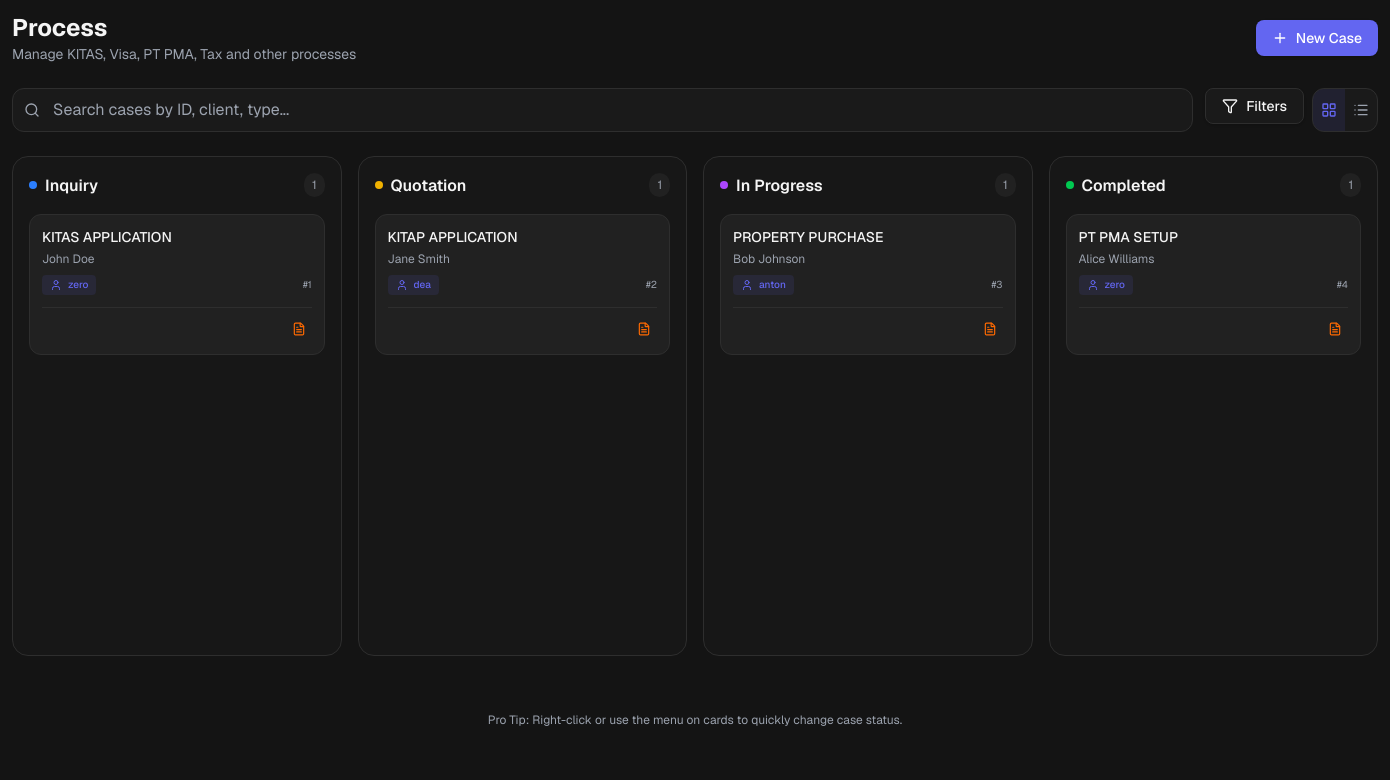
Cases Page › Search Functionality › should filter cases by client name
Expected: the text "John Doe" is shown, x1=42 y1=251 x2=94 y2=267
Type "John" into the field with placeholder "Search cases by ID, client, type..." at coordinates (603, 110), box x1=12 y1=88 x2=1193 y2=132
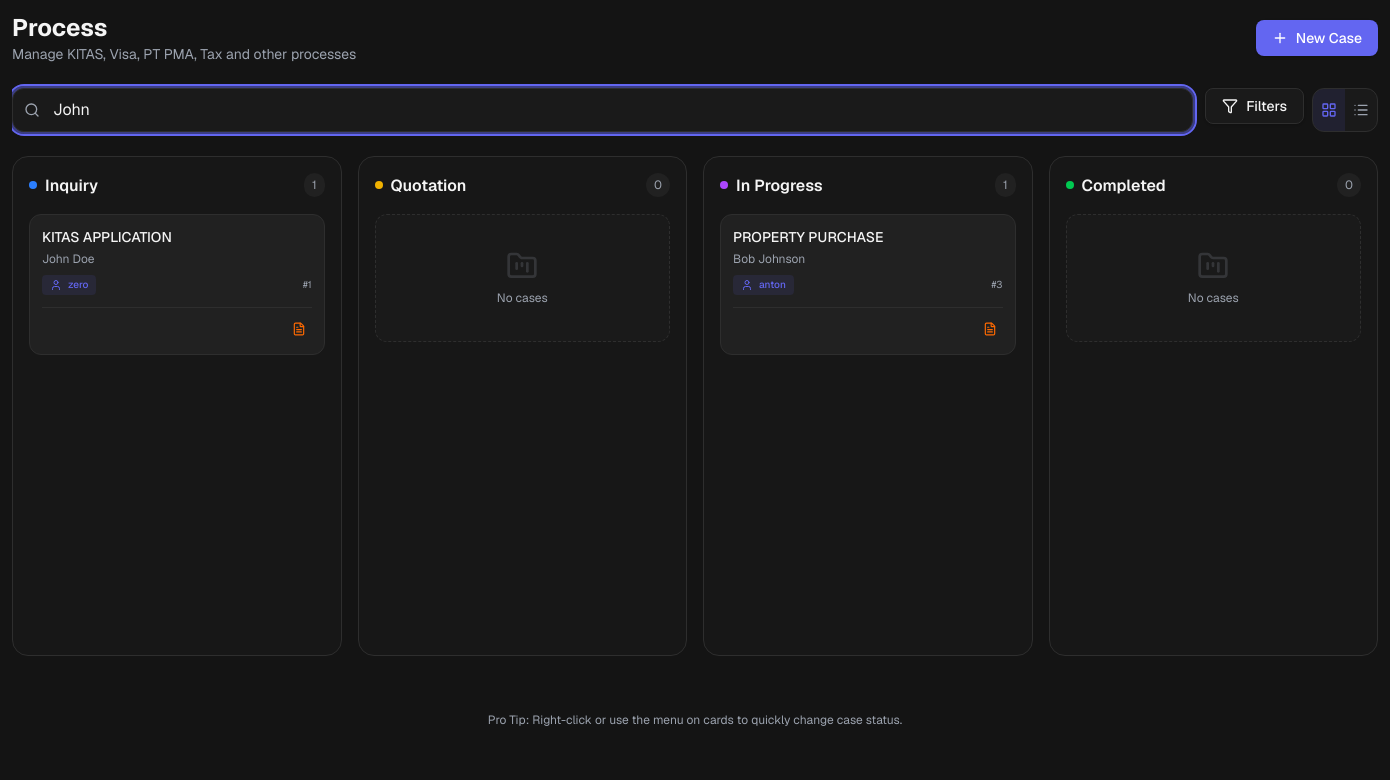
Expected: the text "John Doe" is shown, x1=42 y1=251 x2=94 y2=267
Result: the text "Jane Smith" is gone
